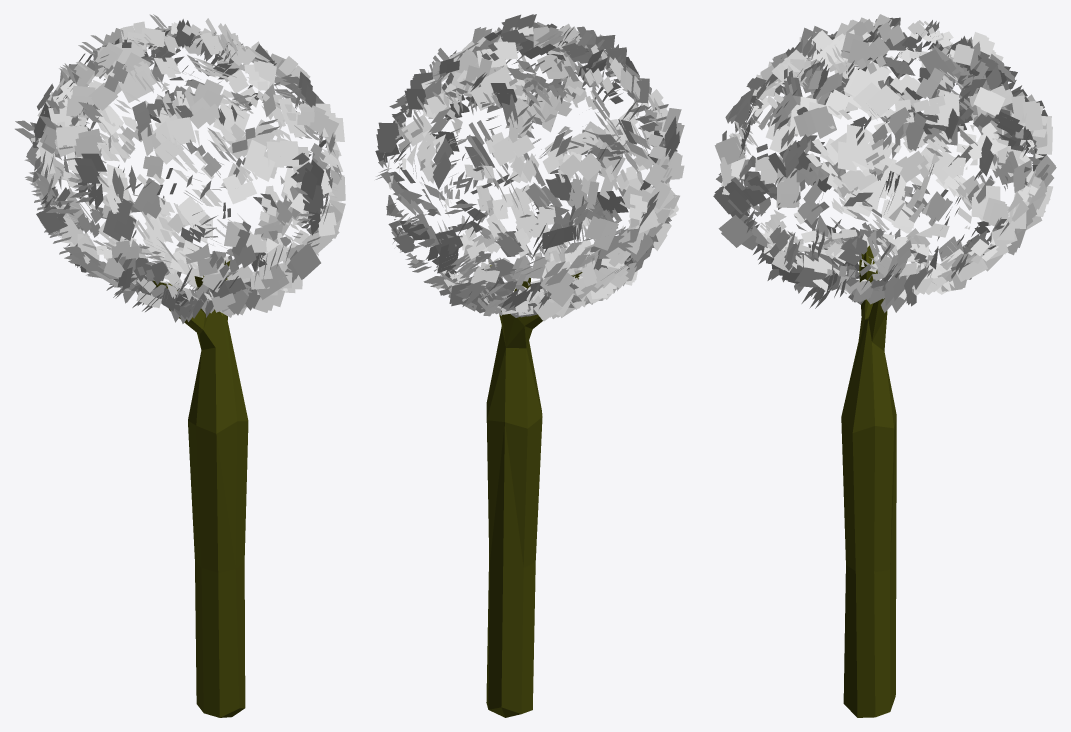
Rendered from LaurelTree2.fbx.
3 views of the same model, side by side, from view 1: azimuth 30°, elevation 25°; view 2: azimuth 150°, elevation 25°; view 3: azimuth 270°, elevation 25° (orthographic). The views are drawn at different scales.
Parts seen in each view (by area): view 1: LaurelTree; view 2: LaurelTree; view 3: LaurelTree.
Part boxes in pixels (x1,y1,x2,y2): LaurelTree: (15,14,345,717); LaurelTree: (375,14,684,717); LaurelTree: (713,14,1056,717).
Bounding box in the file's own units: 37.95 × 91.47 × 42.22.
